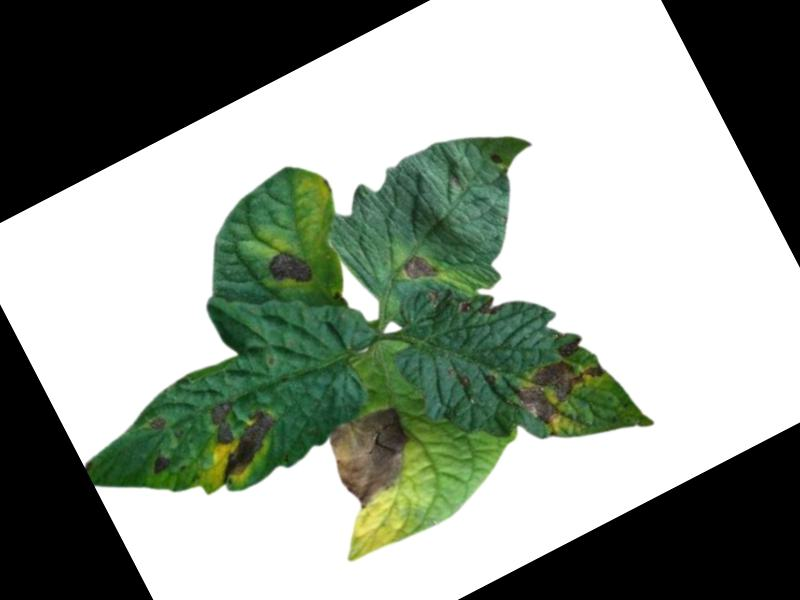Early_blight: (317, 399, 425, 512), (188, 383, 292, 486), (507, 339, 618, 432), (263, 240, 317, 295), (456, 285, 504, 327), (398, 246, 439, 286), (555, 331, 586, 360), (149, 451, 173, 475), (148, 412, 169, 432), (491, 149, 505, 164)
